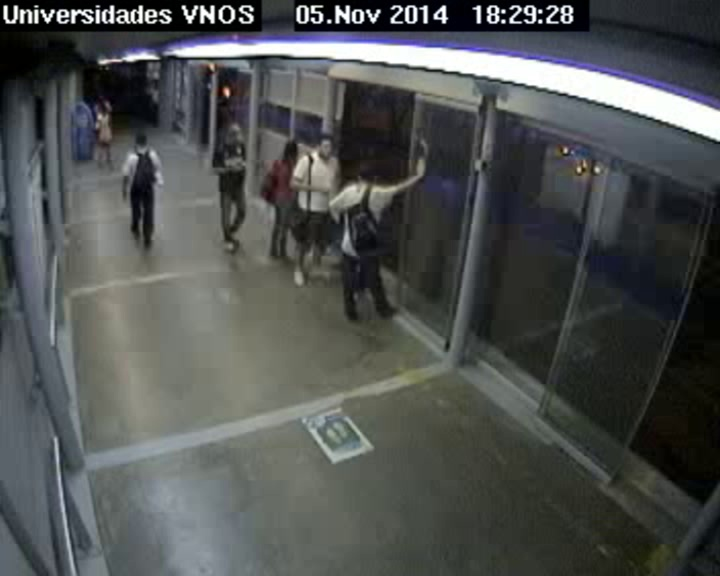person: (356, 158, 380, 186), (314, 134, 337, 160), (223, 122, 242, 145), (283, 139, 301, 157), (134, 131, 148, 147), (98, 103, 107, 112), (151, 81, 159, 89), (97, 94, 105, 101)
